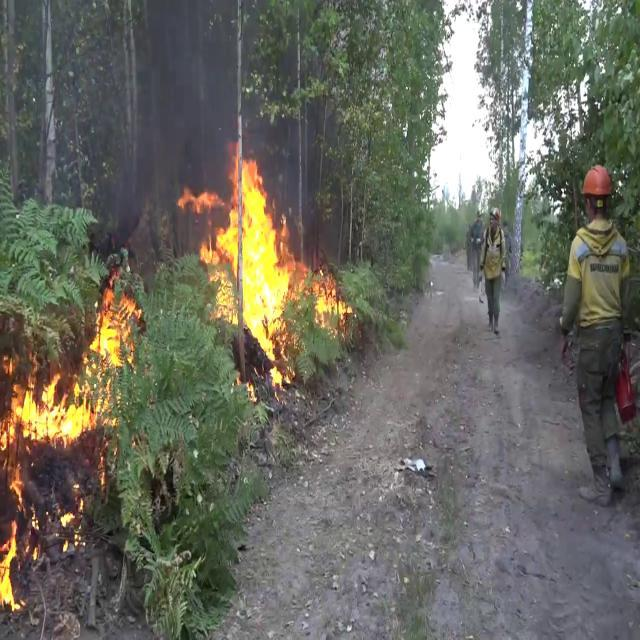Fire: (184, 142, 348, 374), (2, 278, 144, 456), (0, 471, 58, 615)
Smoke: (105, 1, 239, 248)
